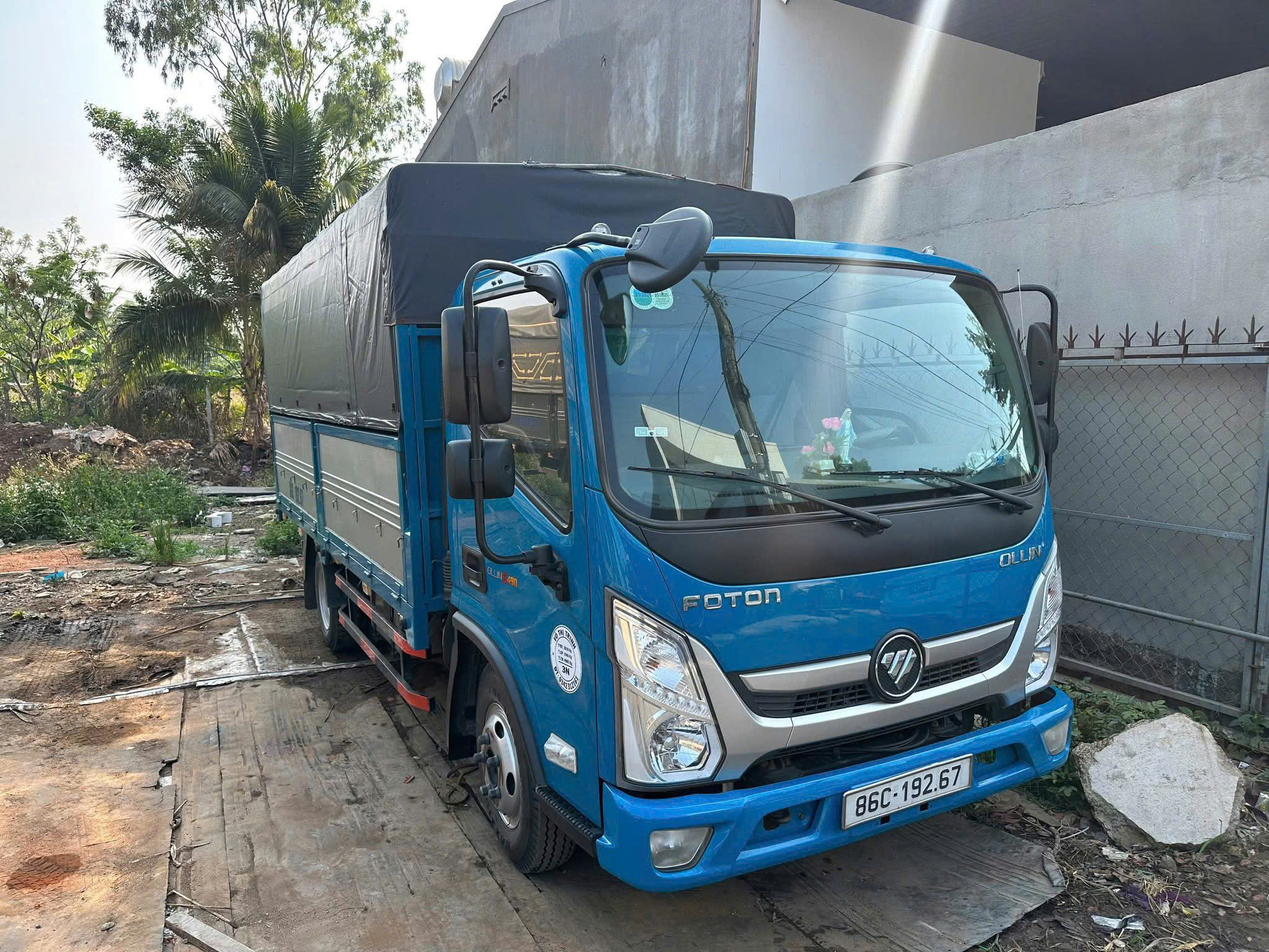Bien-so: (849, 758, 975, 836)
